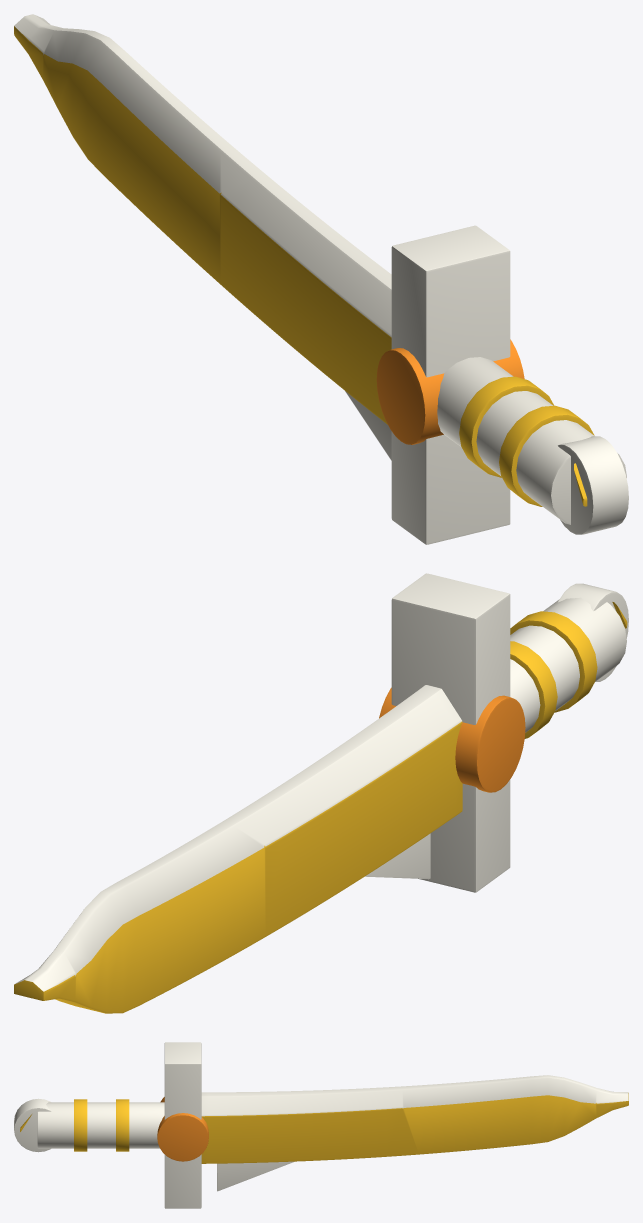
The model's file is Sword_ZenithSabre.glb.
The picture shows the model from 3 angles, top to bottom: view 1: azimuth 30°, elevation 25°; view 2: azimuth 150°, elevation 25°; view 3: azimuth 270°, elevation 25°; orthographic projection. The views are drawn at different scales.
Visible parts, largest first — view 1: Sword_ZenithSabre; view 2: Sword_ZenithSabre; view 3: Sword_ZenithSabre.
Boxes of the visible parts, box(x1,y1,x2,y2) form: Sword_ZenithSabre: box(14, 14, 628, 544); Sword_ZenithSabre: box(14, 573, 628, 1013); Sword_ZenithSabre: box(14, 1042, 628, 1208).
Size of the model in its own units: 0.1 by 0.26 by 1.
1 material, 1 textured.
